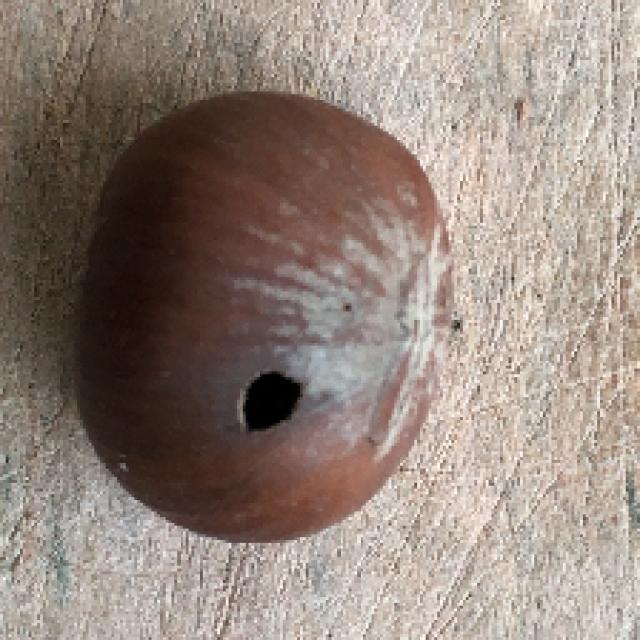damagedHazelnut: (57, 81, 456, 547)
